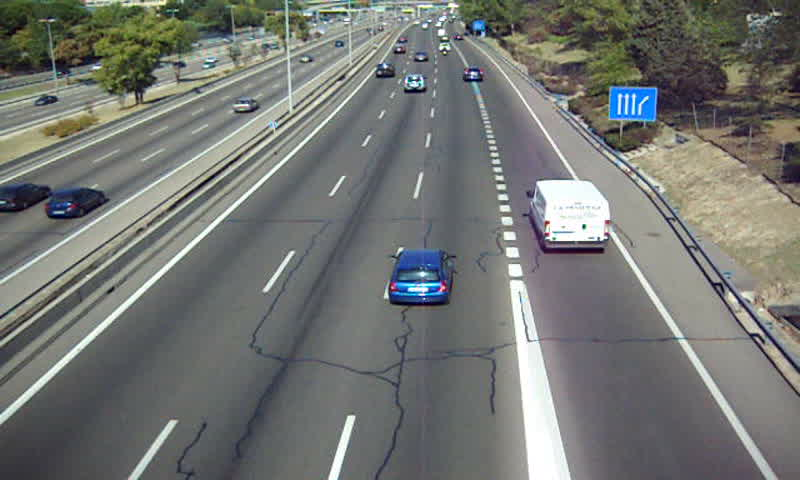car: (390, 250, 453, 305), (402, 75, 426, 93), (375, 61, 395, 80), (460, 68, 486, 82)
van: (526, 180, 610, 249)
